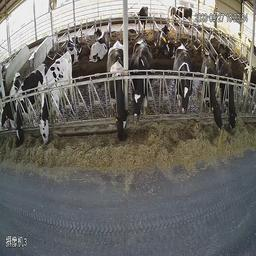cow: (40, 52, 71, 144), (15, 56, 41, 146), (108, 38, 130, 138), (132, 34, 154, 126), (199, 47, 223, 129), (222, 56, 240, 128), (176, 40, 193, 115), (1, 67, 18, 129), (157, 21, 175, 59), (65, 30, 82, 63), (90, 28, 106, 62), (133, 3, 149, 30), (176, 6, 193, 27), (166, 7, 175, 26)
